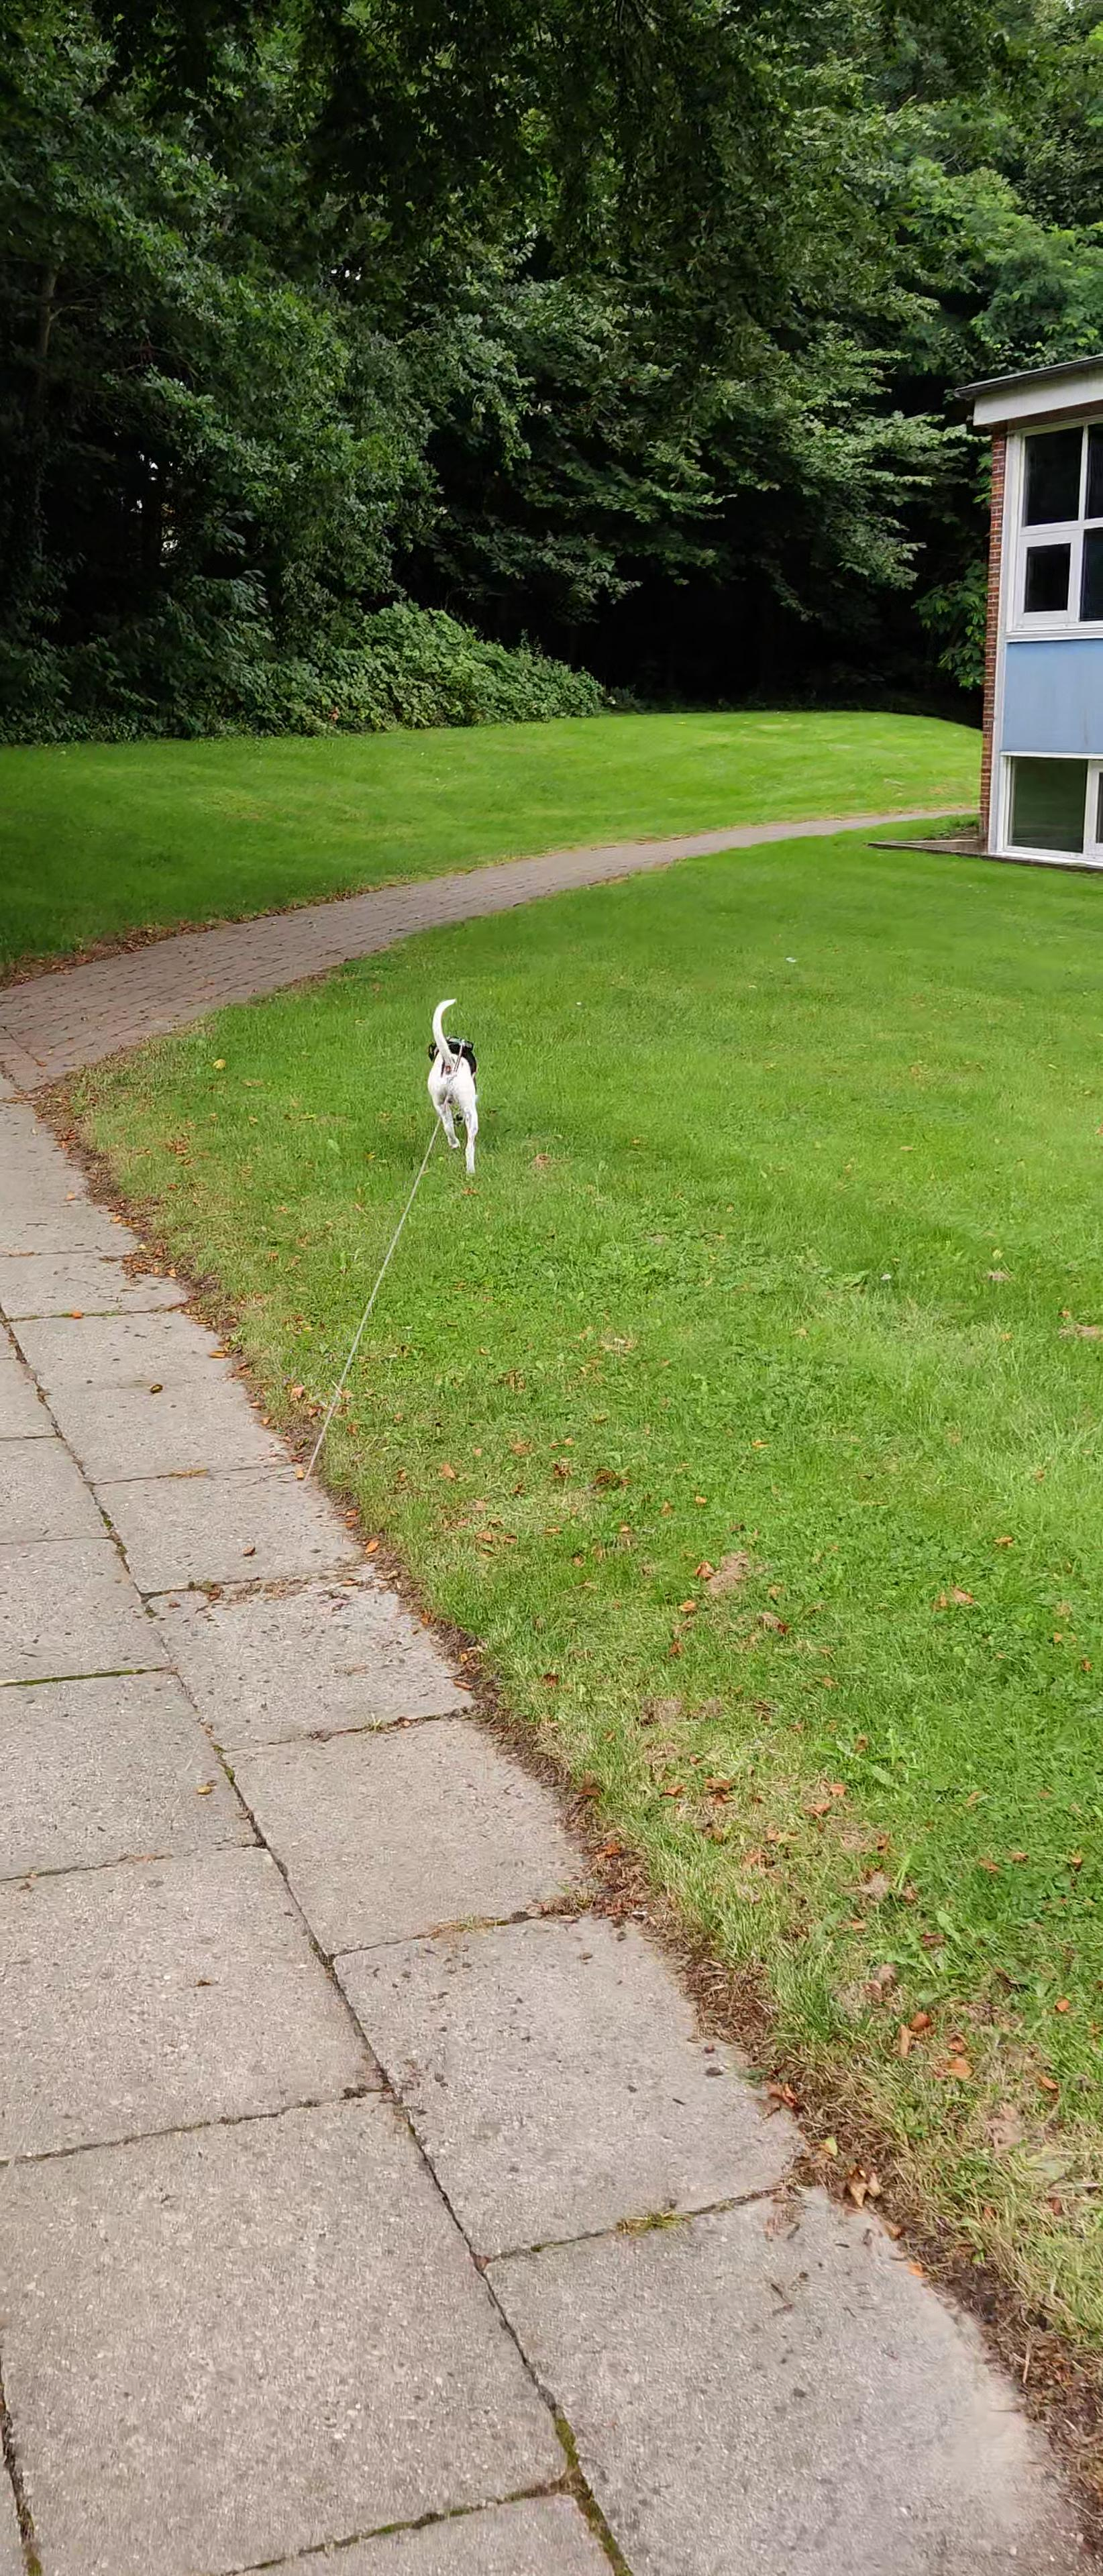Dog: (416, 991, 487, 1178)
